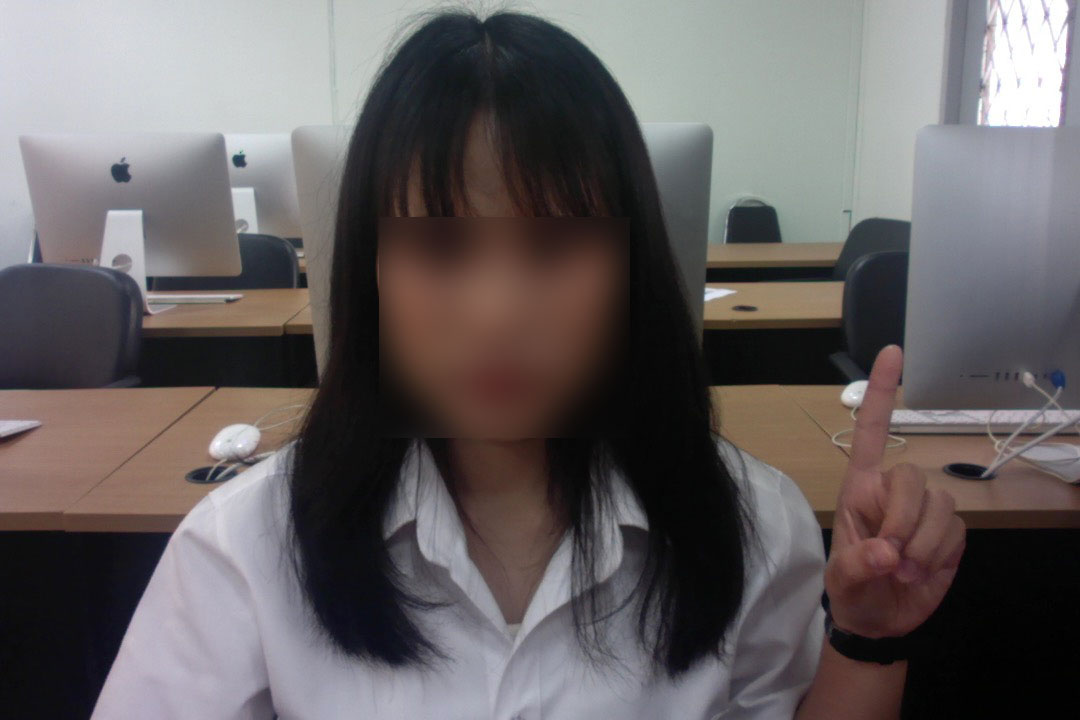dor: (799, 335, 973, 642)
